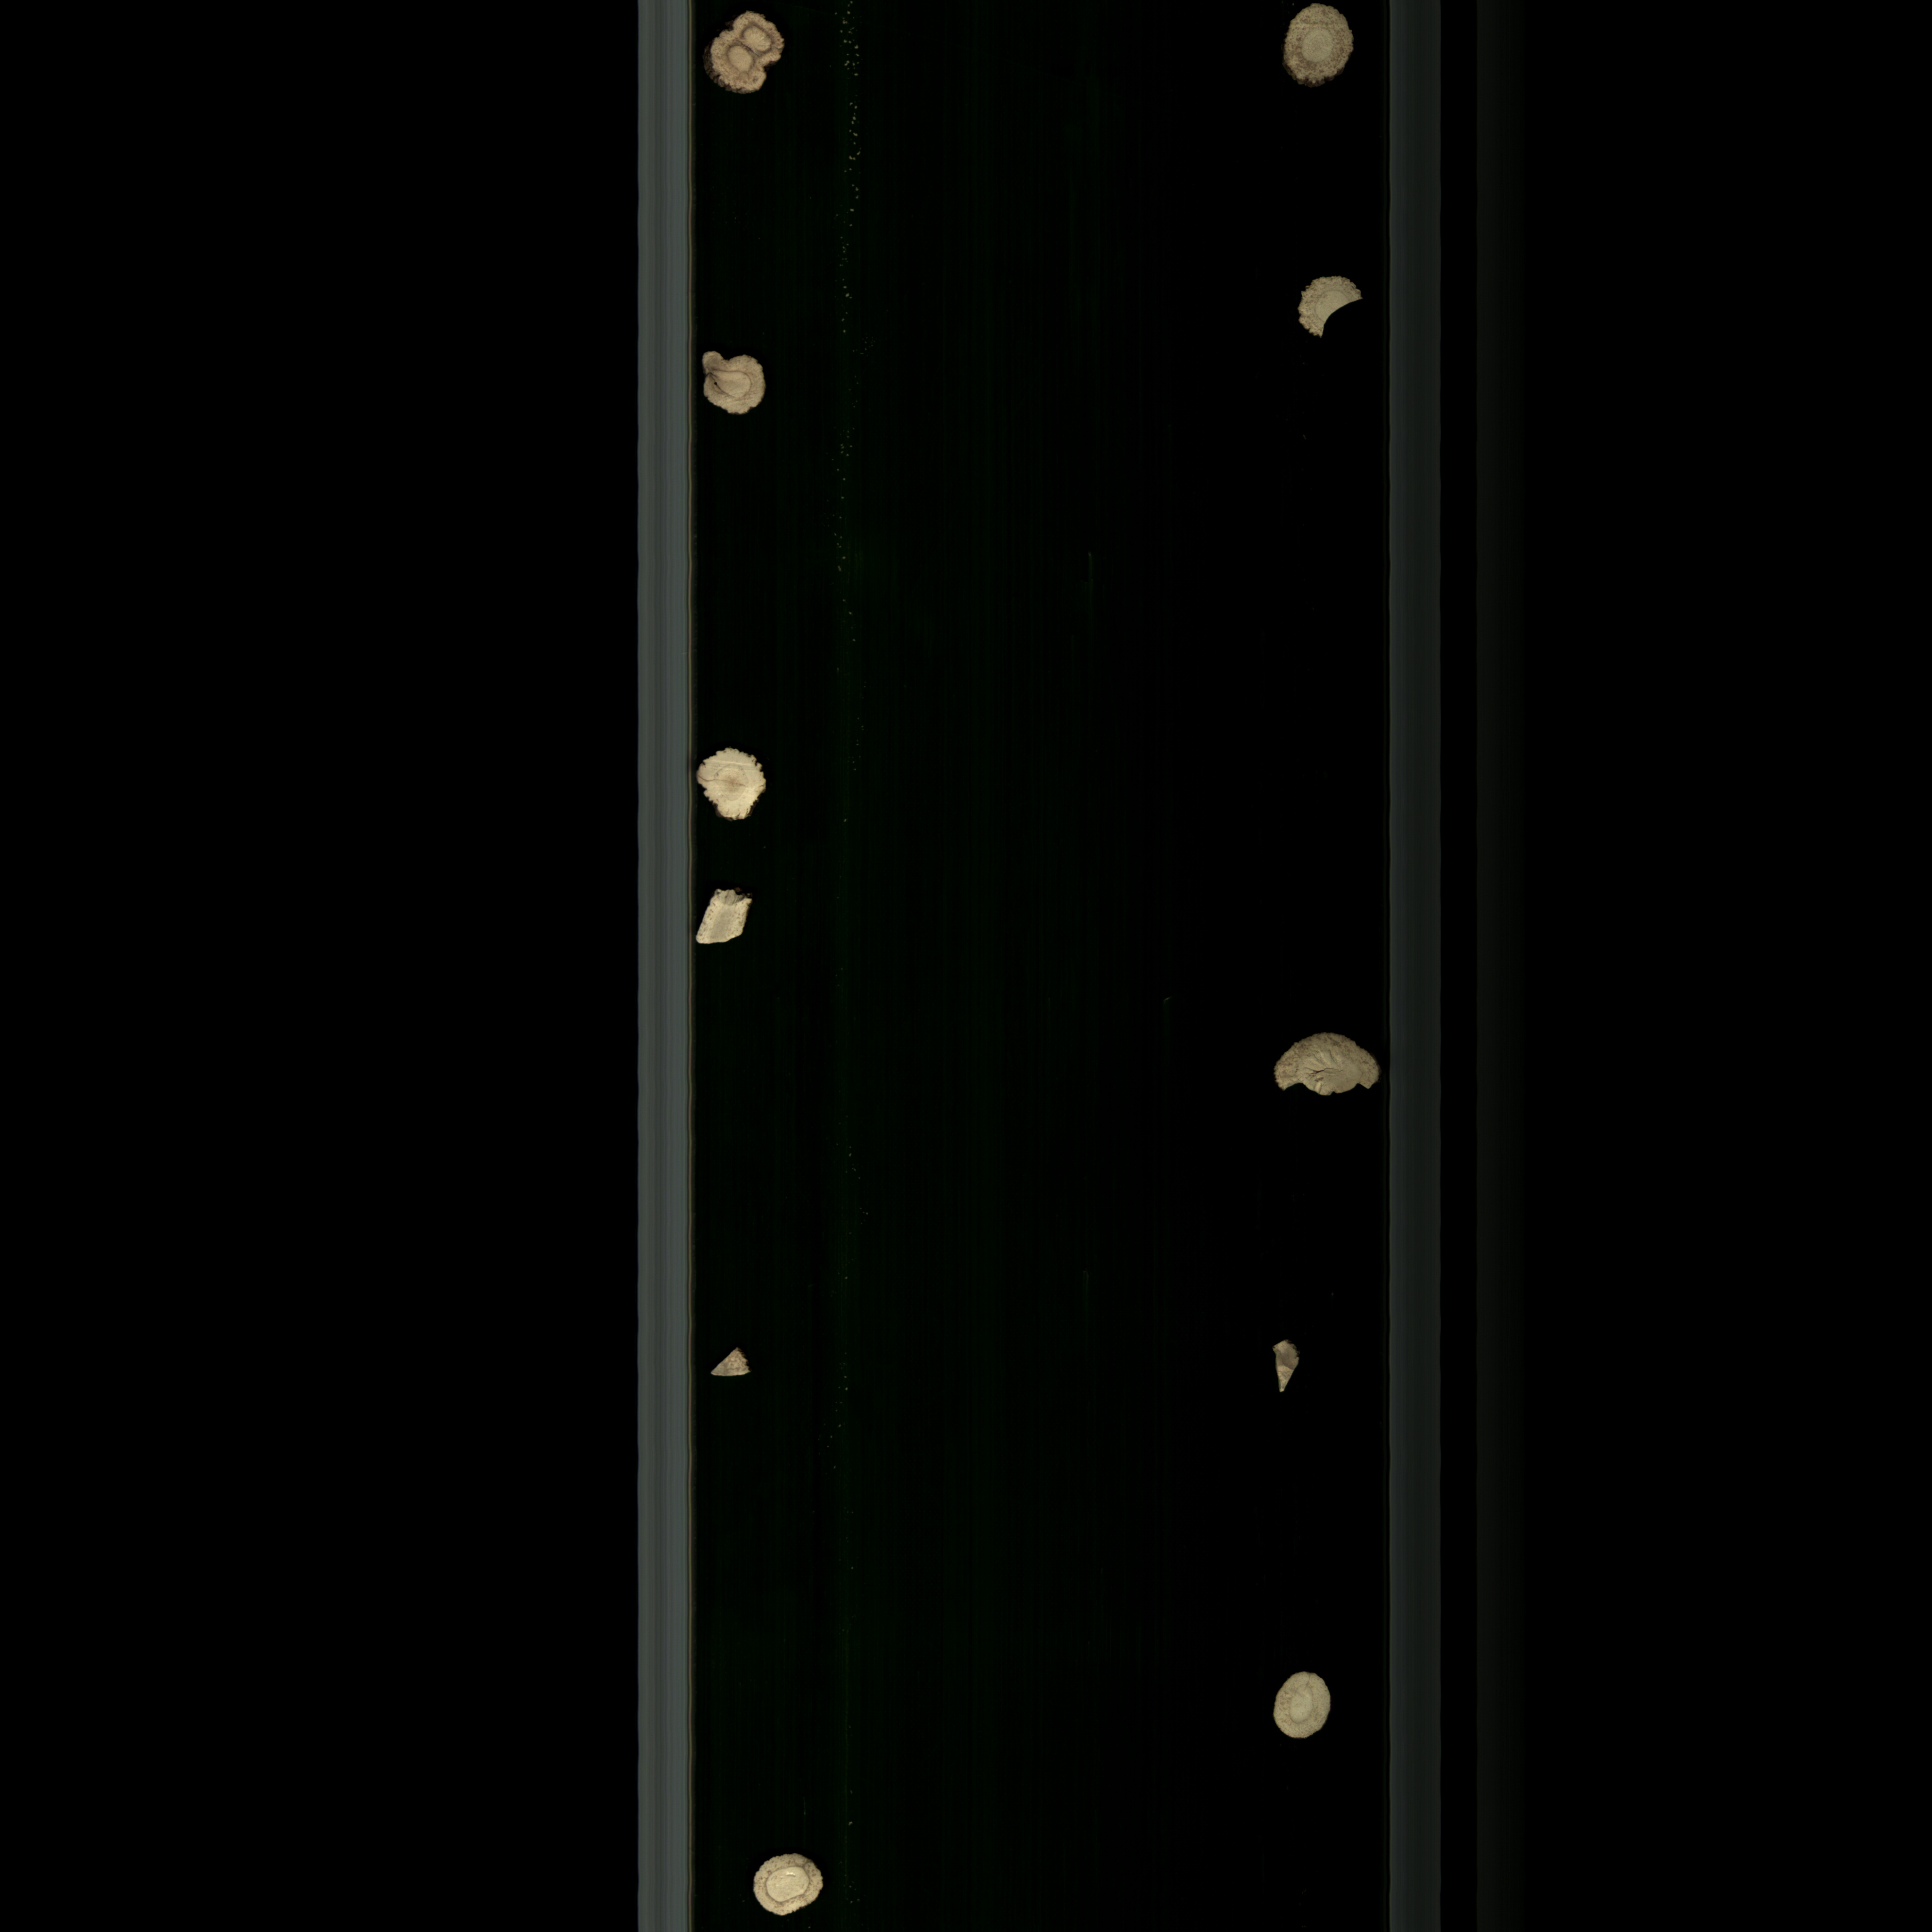debris: (1267, 1017, 1391, 1111), (1290, 265, 1373, 345), (692, 876, 764, 962)
distortion: (688, 336, 780, 439), (692, 740, 771, 833)
dreg: (706, 1345, 763, 1392), (1267, 1330, 1300, 1401)
moldy: (704, 5, 794, 104), (1277, 2, 1353, 90)
